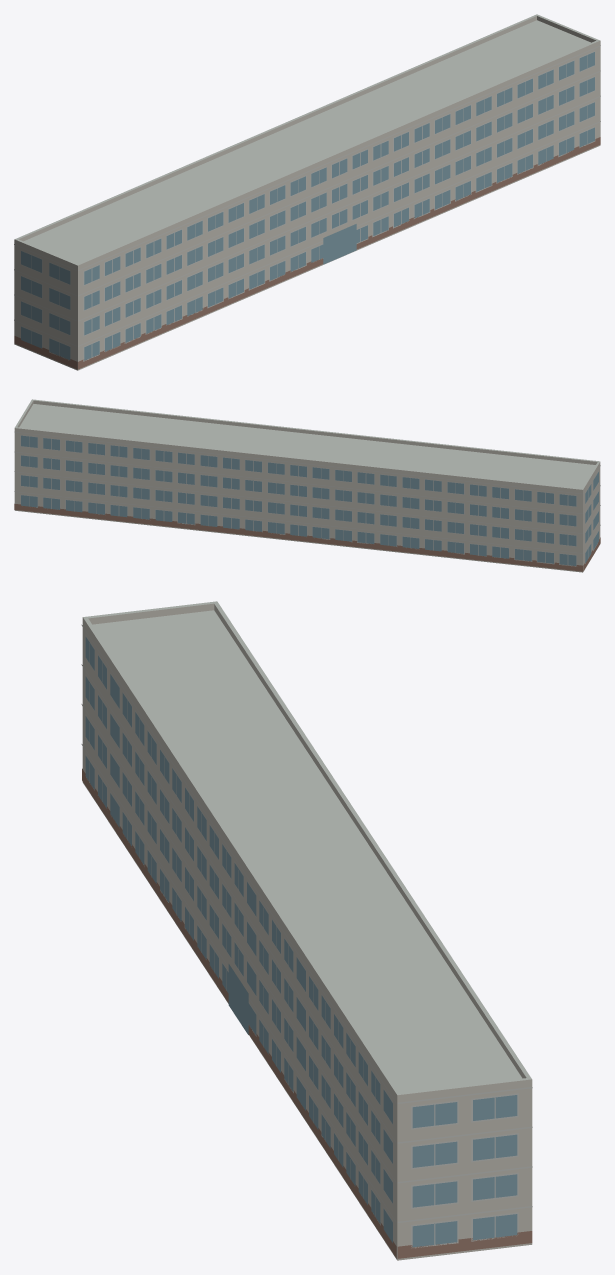
File: public-68ca40ec-2cf6-42ff-a384-69e3d37362fa.glb
The picture shows the model from 3 angles, top to bottom: view 1: azimuth 30°, elevation 25°; view 2: azimuth 150°, elevation 25°; view 3: azimuth 270°, elevation 25°; orthographic projection. The views are drawn at different scales.
Parts seen in each view (by area): view 1: public-68ca40ec-2cf6-42ff-a384-69e3d37362fa; view 2: public-68ca40ec-2cf6-42ff-a384-69e3d37362fa; view 3: public-68ca40ec-2cf6-42ff-a384-69e3d37362fa.
Boxes of the visible parts, bbox=[...] form: public-68ca40ec-2cf6-42ff-a384-69e3d37362fa: bbox=[14, 14, 600, 370]; public-68ca40ec-2cf6-42ff-a384-69e3d37362fa: bbox=[14, 399, 600, 572]; public-68ca40ec-2cf6-42ff-a384-69e3d37362fa: bbox=[81, 601, 532, 1260].
Size of the model in its own units: 78.26 by 12.2 by 30.18.
